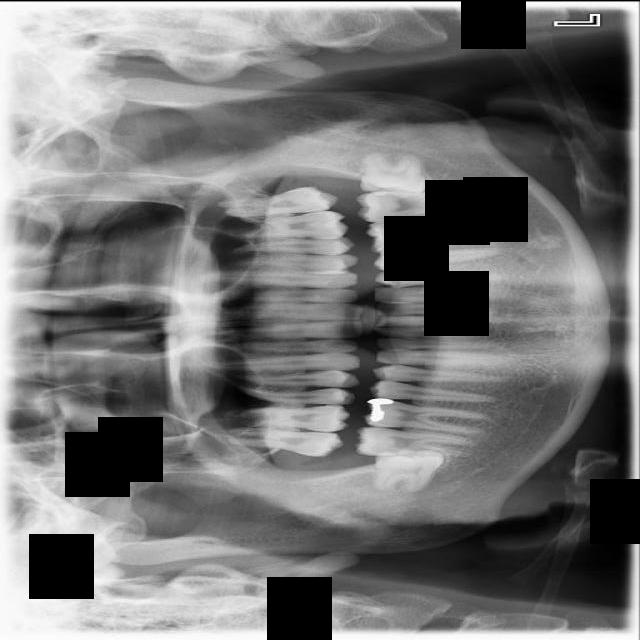52: (361, 394, 413, 432)
73: (612, 11, 622, 19)
BioHorizons Implant: (216, 183, 339, 219)
Biomet 3i Implant: (359, 150, 428, 198)
Blue Sky Bio Implant: (356, 185, 479, 223)
Caries: (218, 423, 345, 458)
Implant: (355, 424, 474, 462)
Keystone Dental Implant: (373, 448, 445, 492)
